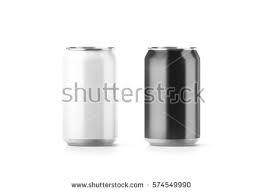Aluminum can: (133, 35, 212, 149), (50, 36, 121, 156)
